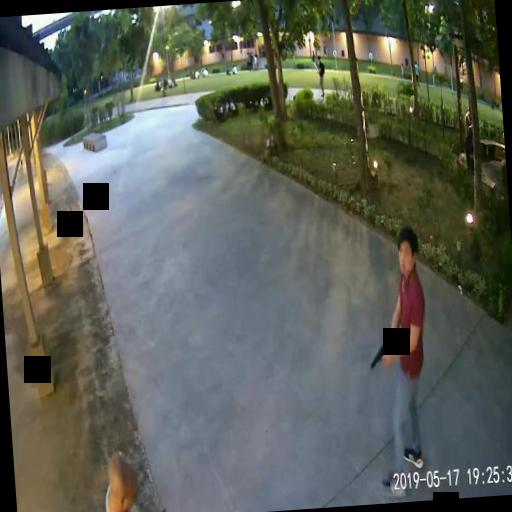Handgun: (368, 343, 390, 368)
